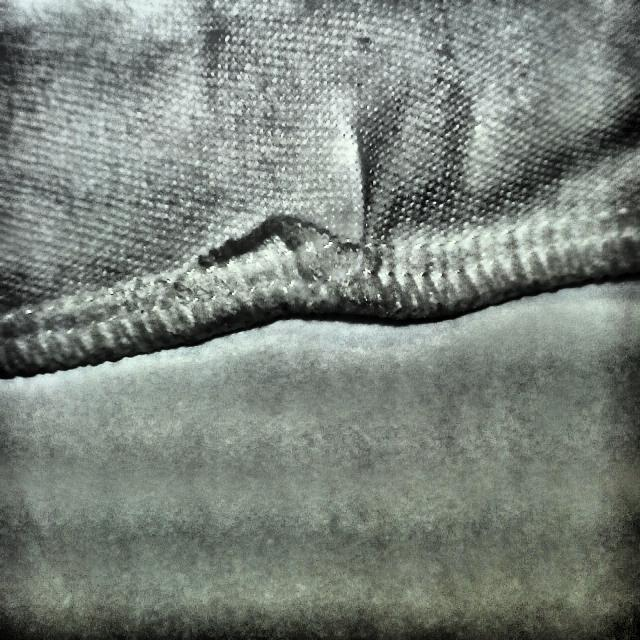gray stitch: (203, 139, 411, 328)
